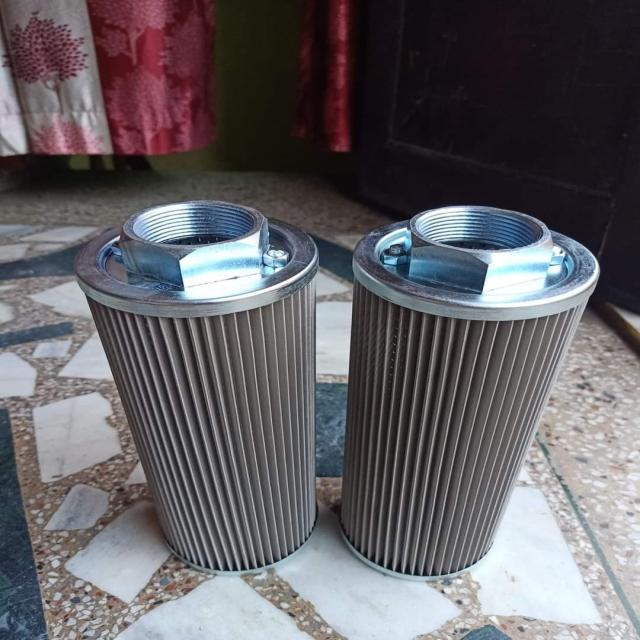oil_filter: (70, 190, 325, 592), (345, 201, 603, 583)
